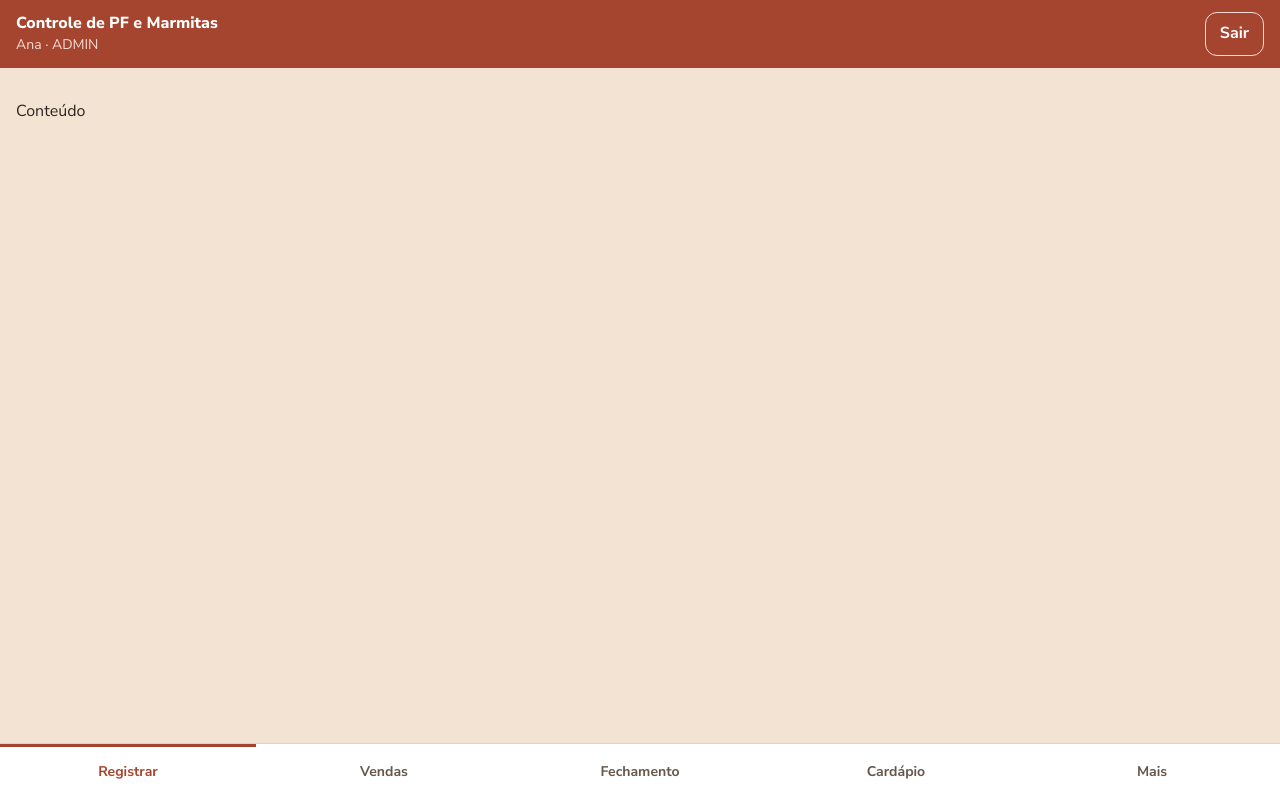
Scenario: AppShell mostra a navegação do ADMIN e o Mais
Expected: the link "Registrar" is shown, [0,744,256,799]
Expected: the link "Vendas" is shown, [360,762,408,781]
Click the button "Mais": (1152, 772) [1024,744,1279,799]
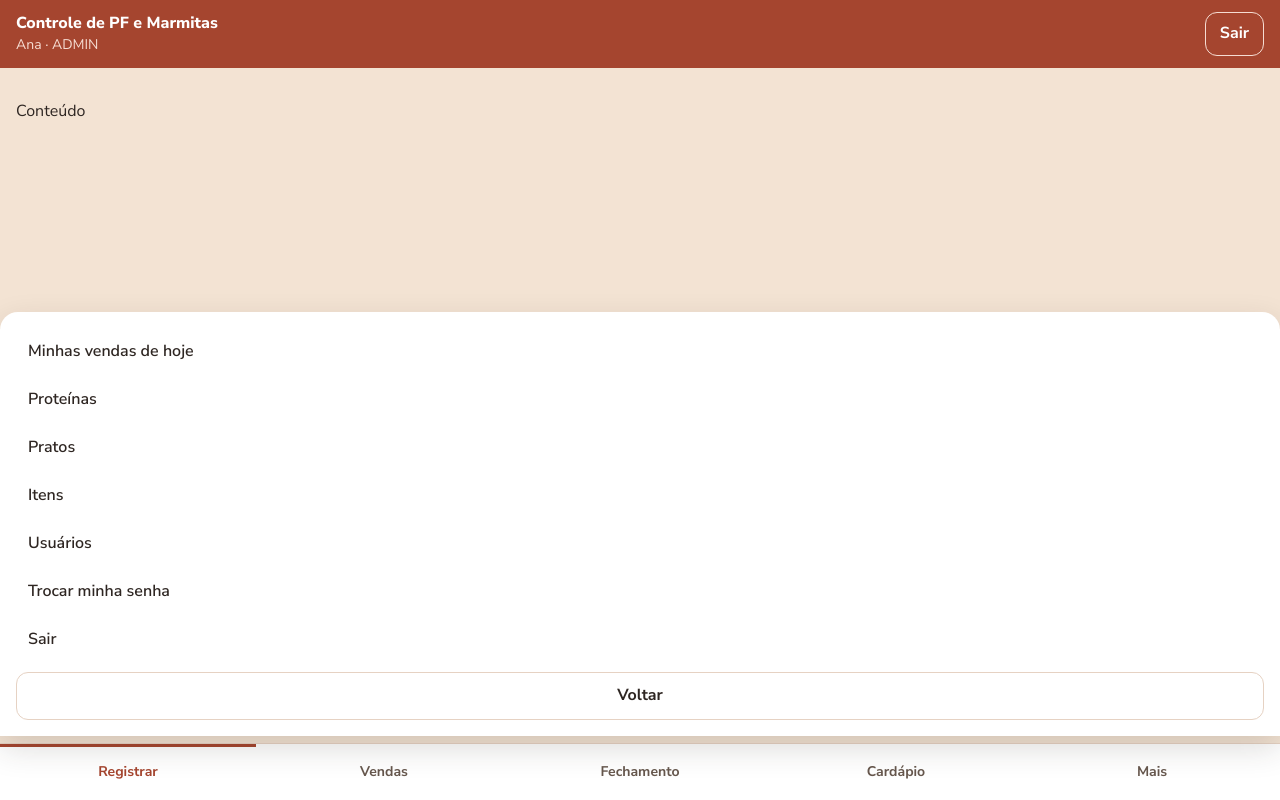
Expected: the link "Proteínas" is shown, [28,388,97,410]
Expected: the link "Usuários" is shown, [28,532,92,554]
Expected: the link "Trocar minha senha" is shown, [28,580,170,602]
